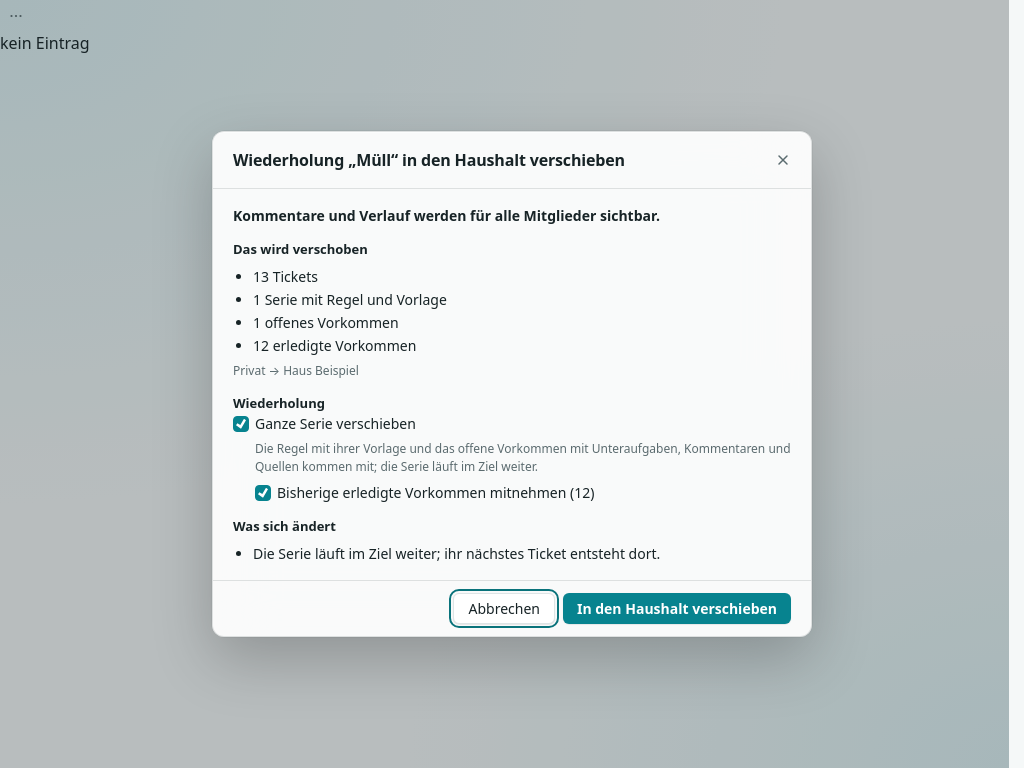
whole series (MV-2) › offers it for a rule; without it the rule moves alone
Click the checkbox labelled "Ganze Serie verschieben" at (241, 424), box [233,416,249,432]
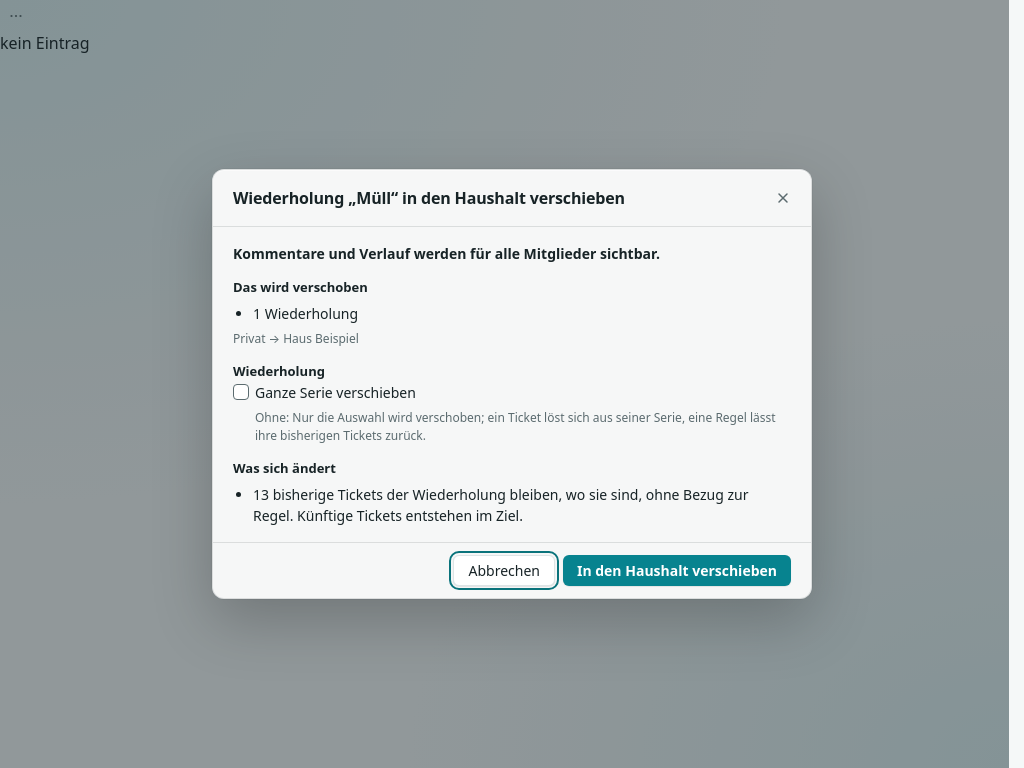
Now the list item "1 Wiederholung" is shown, box [253,304,358,323]
Now the list item "13 bisherige Tickets der Wiederholung bleiben, wo sie sind, ohne Bezug zur Regel. Künftige Tickets entstehen im Ziel." is shown, box [253,485,748,525]
